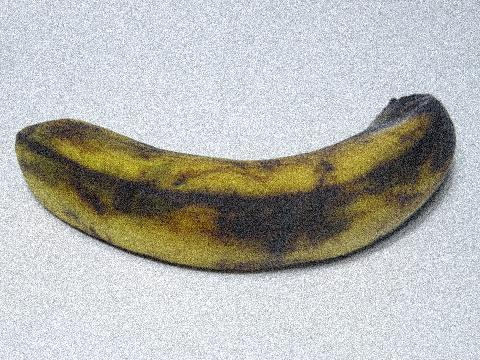overripe: (6, 74, 457, 298)
